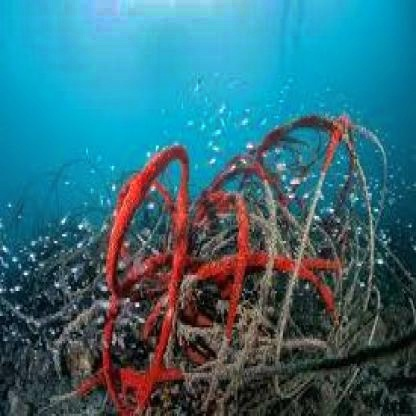net: (98, 107, 382, 416)
